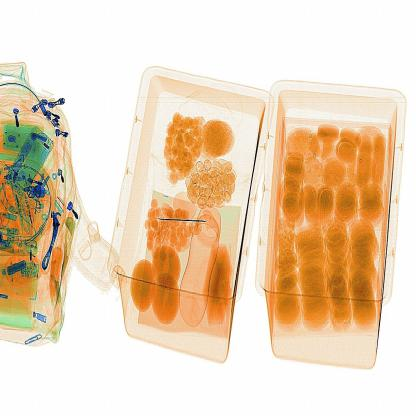wrench: (148, 208, 211, 232)
